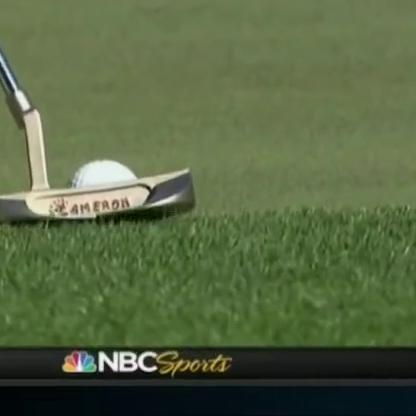golfball: (66, 173, 134, 204)
